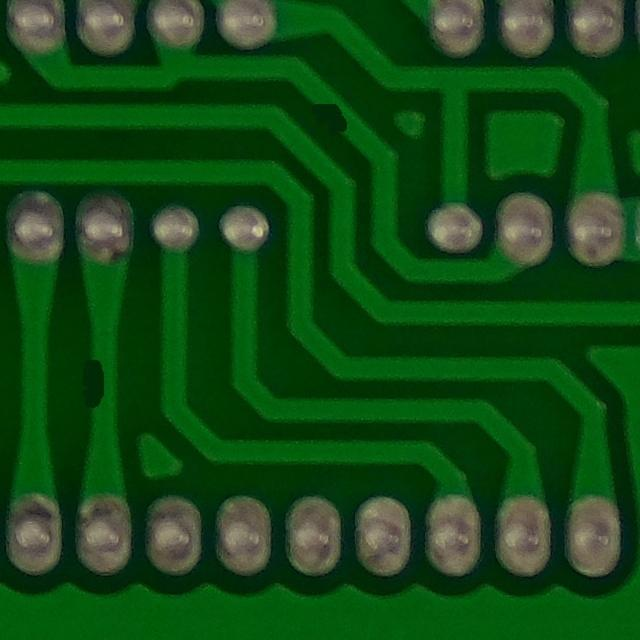mouse_bite: (76, 342, 128, 429), (307, 89, 367, 148)
